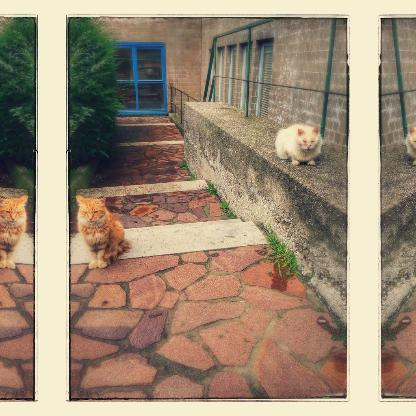Cat: (76, 195, 130, 269), (0, 195, 29, 270), (274, 124, 324, 162), (403, 123, 415, 163)
